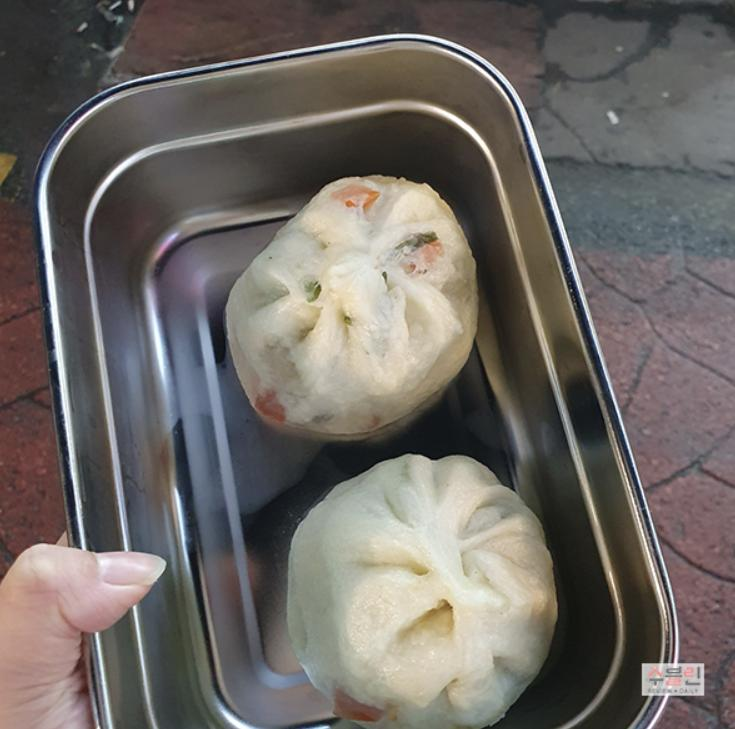Lunch Box: (37, 36, 675, 728)
